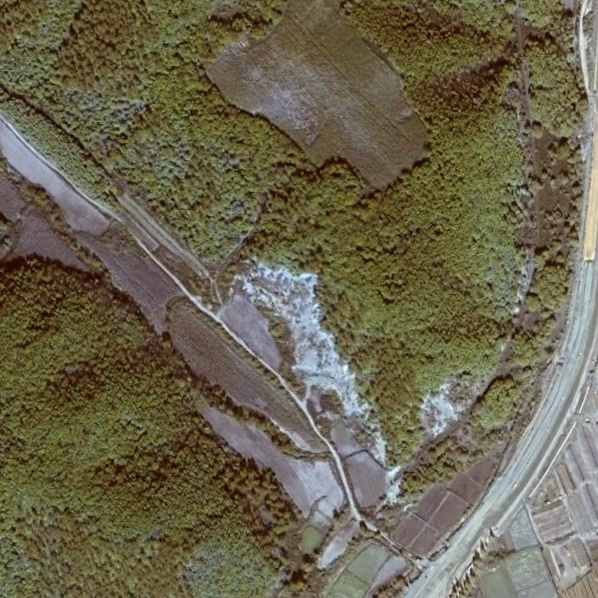slope: (223, 261, 401, 461), (417, 376, 479, 441)
